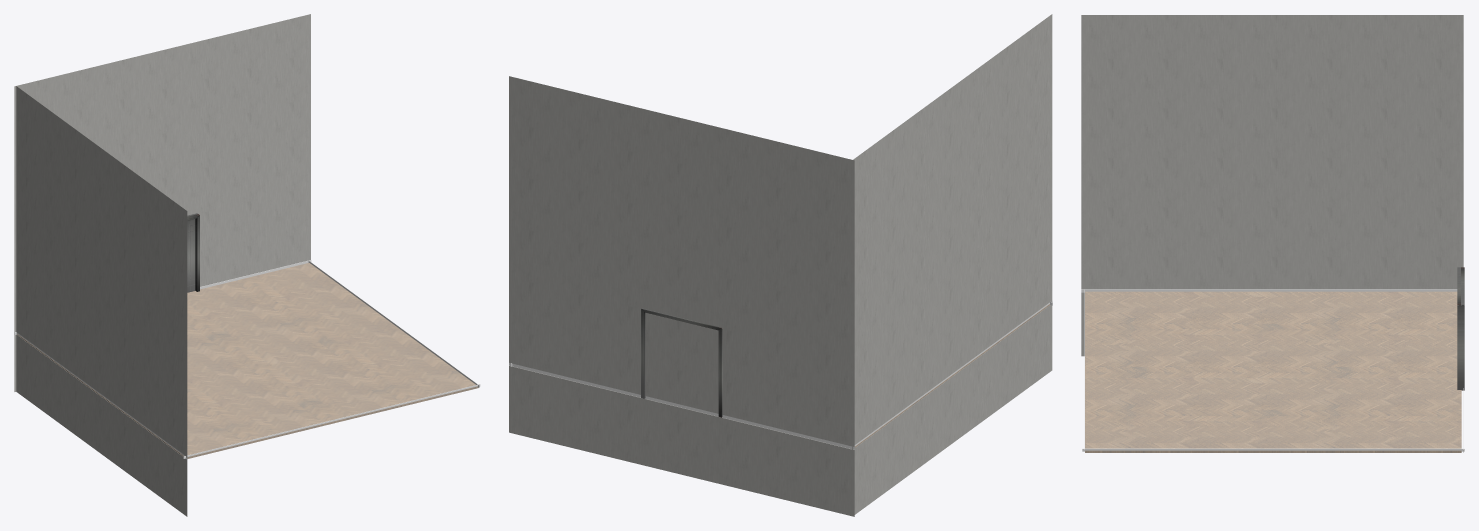
Rendered from spaceOne.glb.
The picture shows the model from 3 angles, left to right: view 1: azimuth 30°, elevation 25°; view 2: azimuth 150°, elevation 25°; view 3: azimuth 270°, elevation 25°; orthographic projection. The views are drawn at different scales.
Visible parts, largest first — view 1: Plane.059, Plane.058, Plane.040, Plane.043, Plane.042; view 2: Plane.058, Plane.059, Plane.043; view 3: Plane.059, Plane.040, Plane.057, Plane.043.
Boxes of the visible parts, x1,y1,x2,y2 form: Plane.059: (16, 86, 187, 516); Plane.058: (14, 14, 311, 391); Plane.040: (17, 263, 478, 458); Plane.043: (187, 213, 199, 292); Plane.042: (183, 384, 480, 458); Plane.058: (509, 76, 854, 516); Plane.059: (852, 14, 1052, 514); Plane.043: (641, 308, 722, 417); Plane.059: (1081, 15, 1463, 356); Plane.040: (1085, 291, 1461, 452); Plane.057: (1082, 448, 1464, 451); Plane.043: (1457, 267, 1464, 390).
Bounding box in the file's own units: 8.14 × 8.02 × 8.15.
4 materials, 3 textured.
